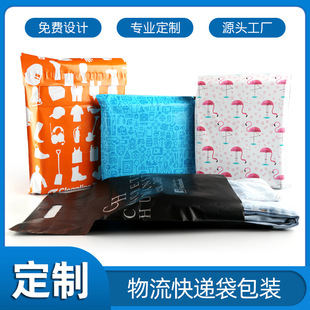塑料袋: (10, 174, 299, 234), (21, 53, 126, 194), (193, 73, 286, 188), (97, 90, 198, 178)
